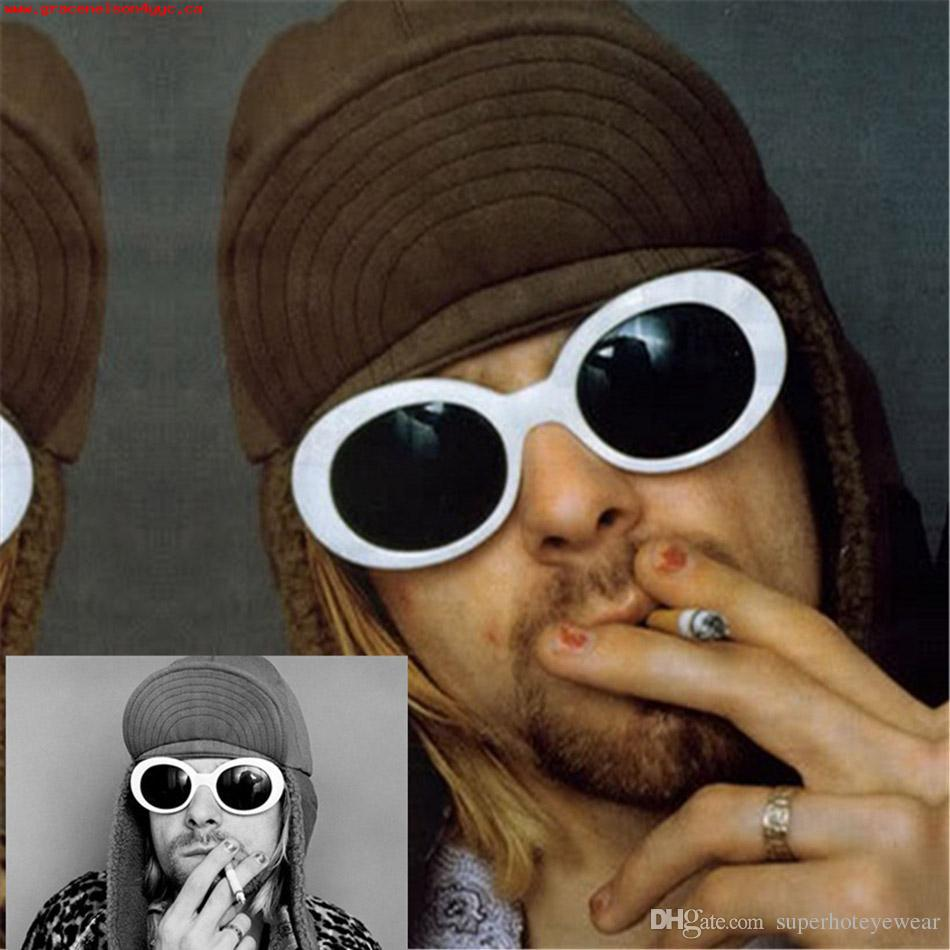sunglasses: (230, 293, 860, 493), (98, 734, 314, 831)
